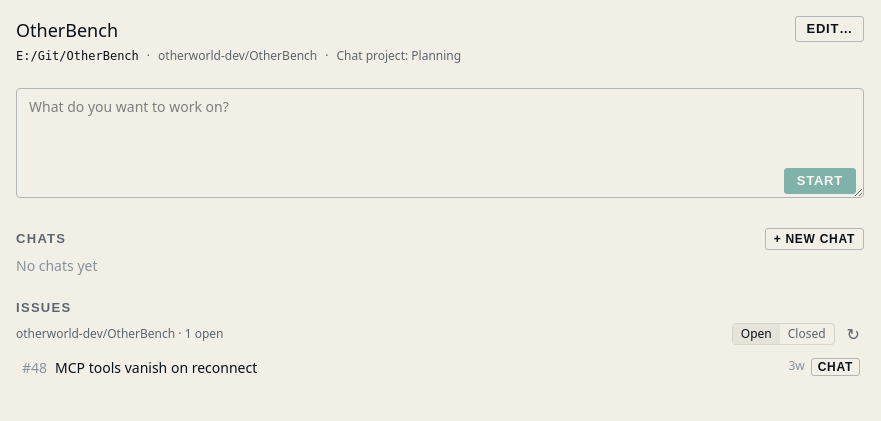
AppHome › a failed New chat says why
Step 1. Click the button with test id "app-home-new-chat" → (814,239), box [765,228,864,250]
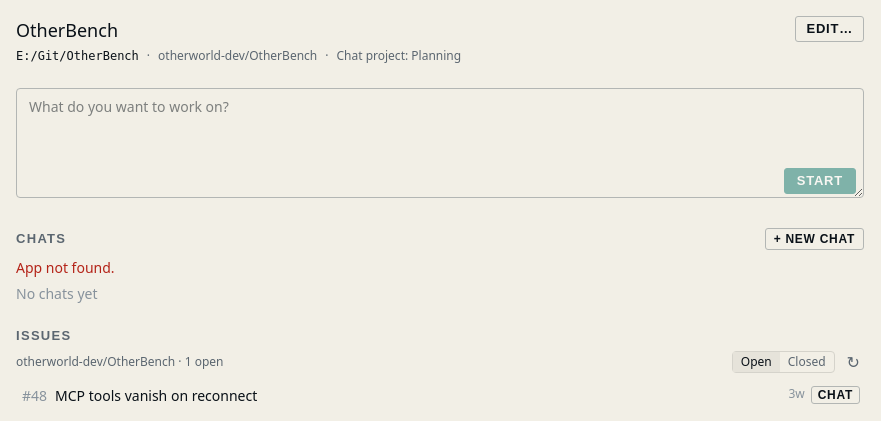
Expected: the text "App not found." is shown, [16,258,115,277]
